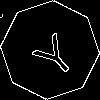Y: (25, 25, 80, 81)
